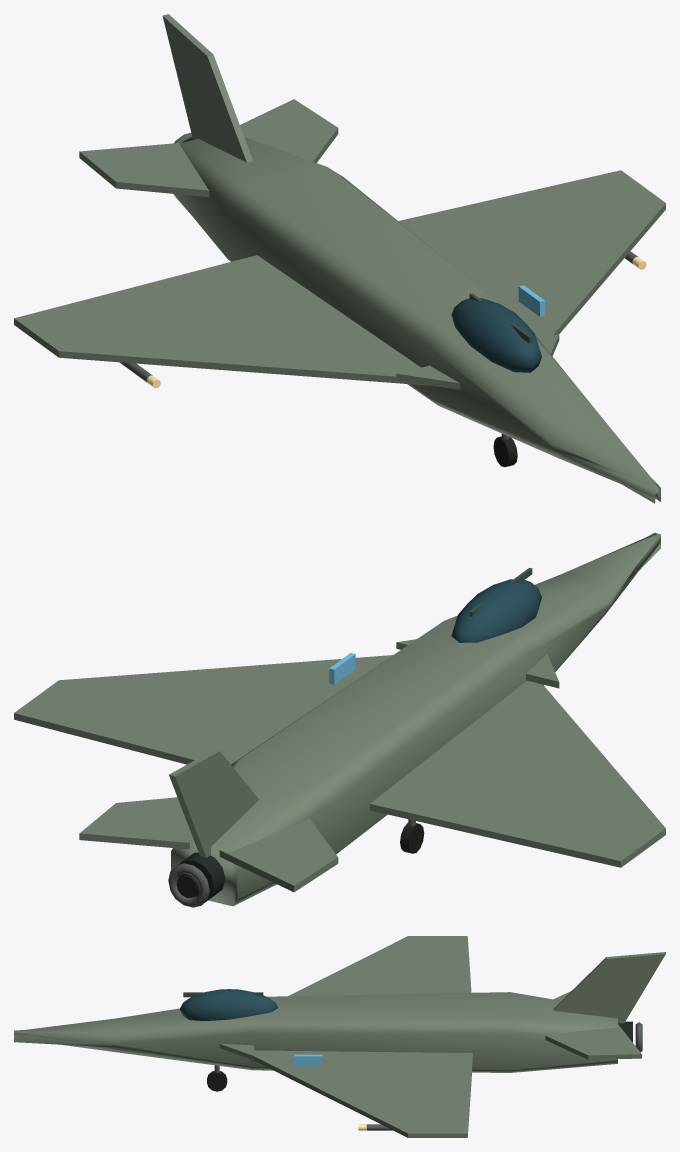
File: bomber.glb
3 renders of one model, top to bottom at view 1: azimuth 30°, elevation 25°; view 2: azimuth 150°, elevation 25°; view 3: azimuth 270°, elevation 25°, orthographic. The views are drawn at different scales.
Parts seen in each view (by area): view 1: armor, glass; view 2: armor, glass, dark, steel, rubber; view 3: armor, glass, marking, steel, rubber.
Part boxes in pixels (box(x1,y1,x2,y2)): armor: box(14, 14, 665, 503); glass: box(451, 298, 541, 372); armor: box(14, 532, 665, 906); glass: box(451, 579, 541, 642); dark: box(176, 852, 225, 902); steel: box(168, 863, 209, 907); rubber: box(400, 823, 424, 853); armor: box(14, 936, 665, 1137); glass: box(179, 989, 277, 1020); marking: box(294, 1054, 322, 1066); steel: box(366, 1022, 642, 1130); rubber: box(207, 1071, 227, 1091).
Size of the model in its own units: 8.2 by 2.64 by 11.45.
